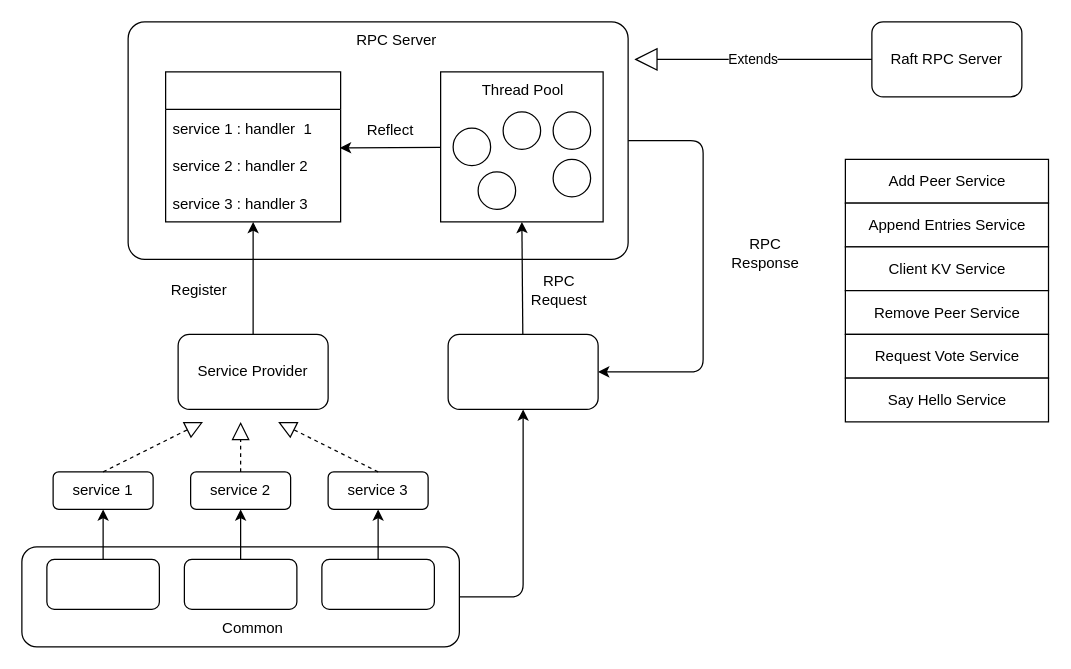
The diagram is 1071 pixels wide and 669 high, and some of its shapes have lost their labels. Here are the shapes that lost their labels. From the top down, the box of each, then its label:
(164, 71, 341, 222): Service Manager
(447, 333, 598, 409): RPC Client
(46, 558, 159, 609): Service Req 1 Service Resp 1
(183, 558, 297, 609): Service Req 2 Service Resp 2
(321, 558, 434, 609): Service Req 3 Service Resp 3
